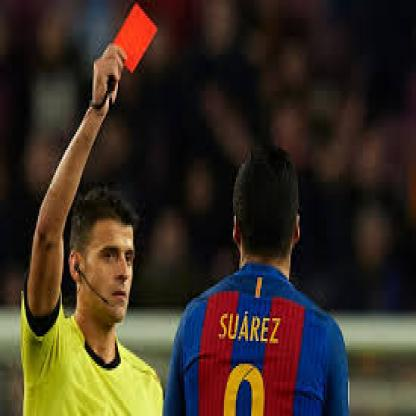foul: (53, 1, 180, 185)
